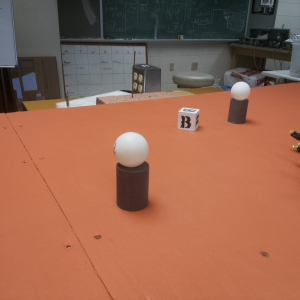blockB: (175, 105, 204, 132)
obstacle: (110, 130, 155, 212), (223, 79, 254, 128)
